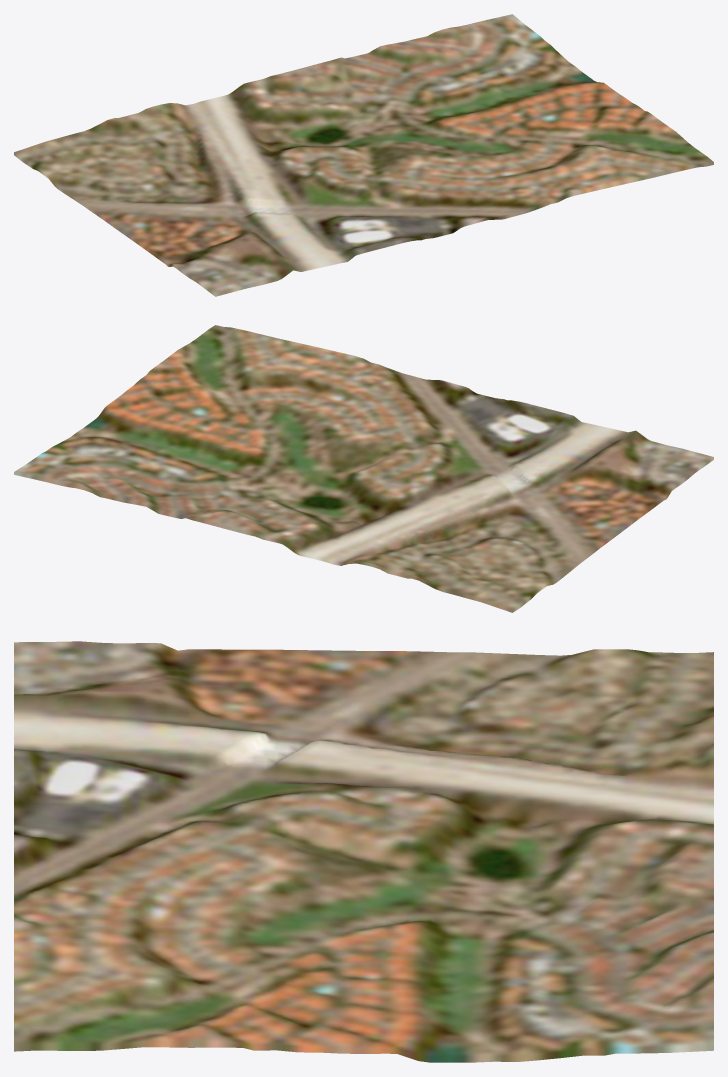
File: terrain_r6_c7_lod1.glb
3 views of the same model, one above another, from view 1: azimuth 30°, elevation 25°; view 2: azimuth 150°, elevation 25°; view 3: azimuth 270°, elevation 25° (orthographic). The views are drawn at different scales.
Visible parts, largest first — view 1: terrain_r6_c7_lod1; view 2: terrain_r6_c7_lod1; view 3: terrain_r6_c7_lod1.
Part boxes in pixels (<box>): terrain_r6_c7_lod1: <box>14,14,713,296</box>; terrain_r6_c7_lod1: <box>14,325,713,612</box>; terrain_r6_c7_lod1: <box>14,641,713,1062</box>.
Size of the model in its own units: 1125 by 51.71 by 787.
1 material, 1 textured.
